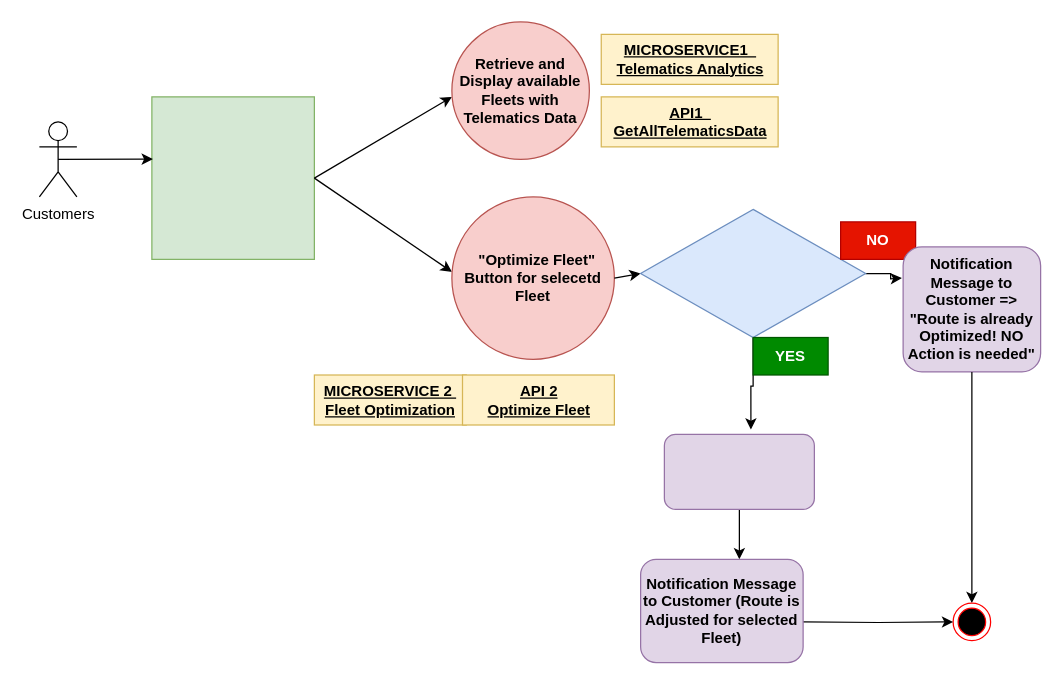
This 1063x685 diagram has some shape labels left out. Each missing label, with the centre of its shape:
Angular Frontend (E1: Customer Experience => Fleet Optimization): [232,177]
Optimize route for the selected Fleet: [738,471]
vehicleTelematics. fuelEfficiency < 20: [752,273]
